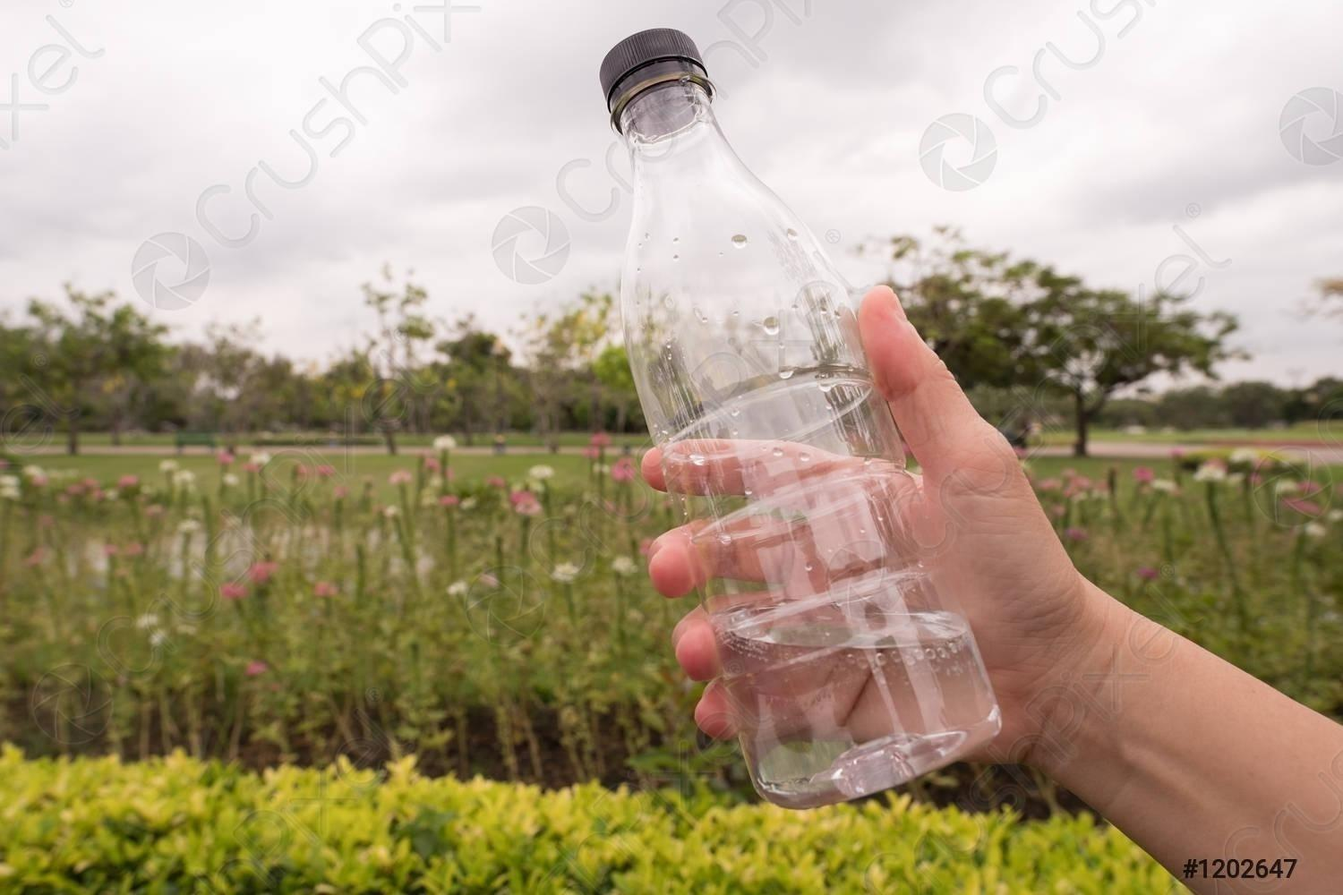bottle-plastic: (594, 26, 1005, 813)
